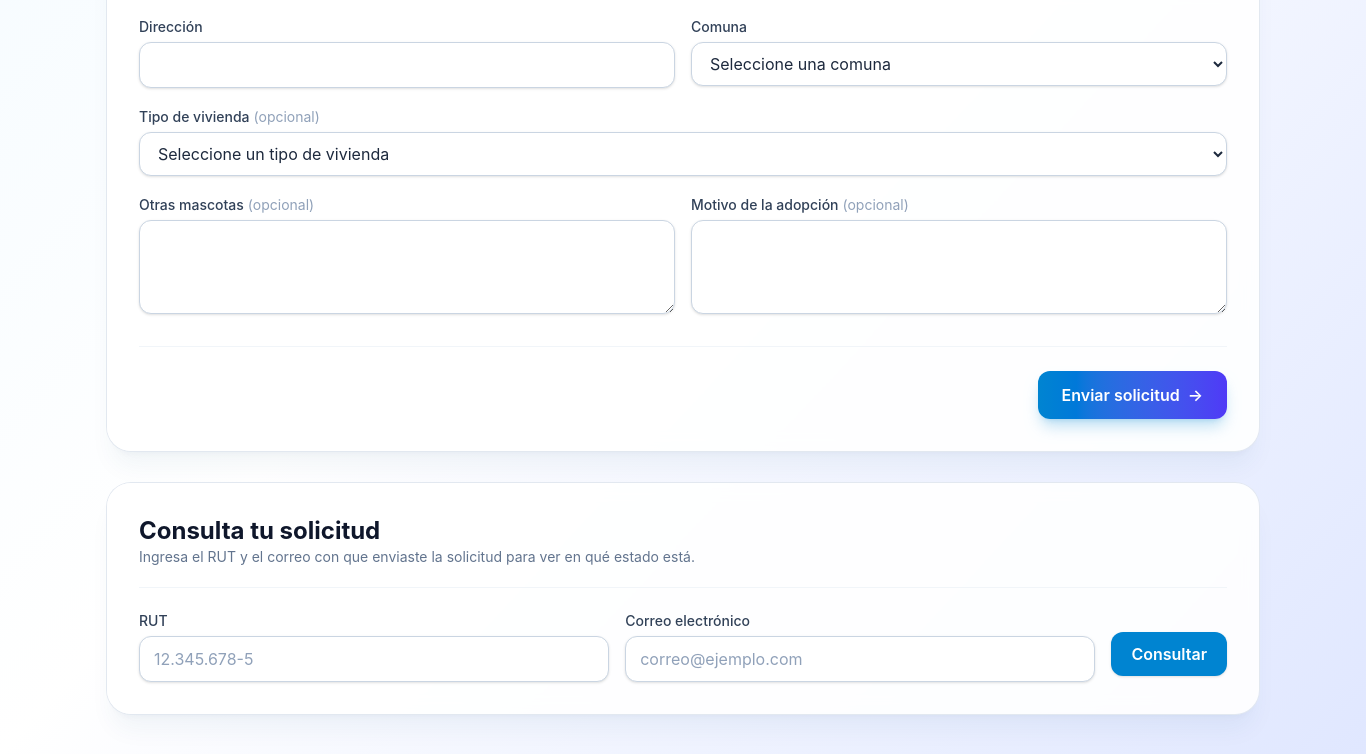
it: Consulta del estado de la solicitud (vista del usuario) › muestra el estado de la solicitud del adoptante
(page scrolled)
Type "123456785" into the field labelled "RUT". click: coordinates (374, 659)
box: [139,636,609,682]
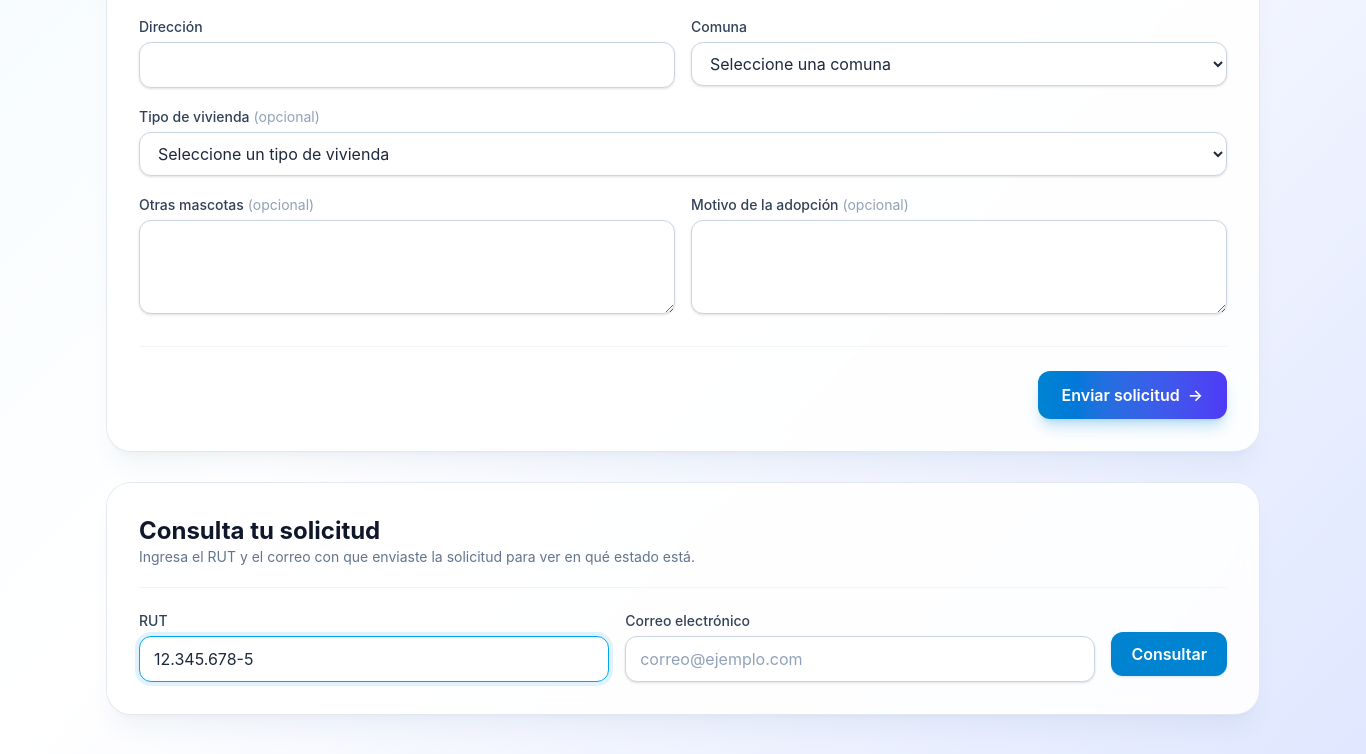
Type "ana@correo.cl" into the field labelled "Correo electrónico". click: coordinates (860, 659)
box: [625,636,1095,682]
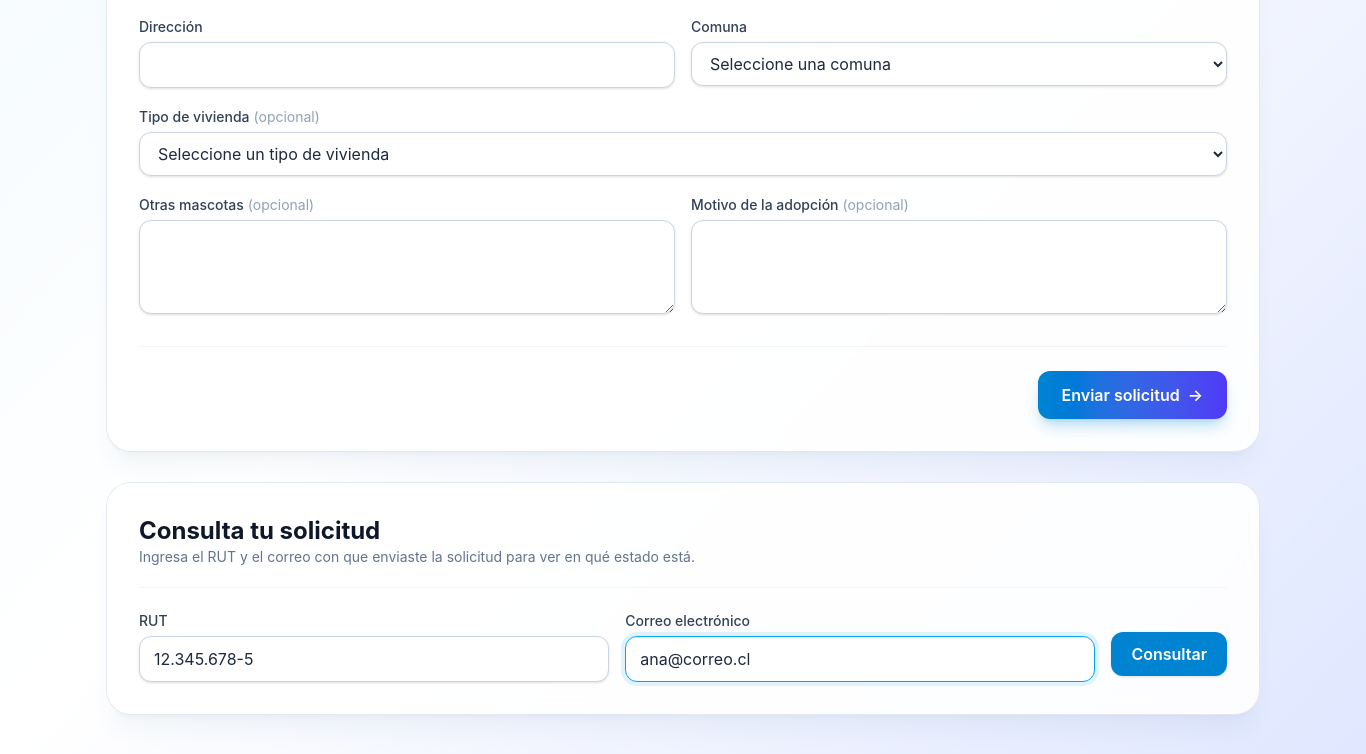
Click the button "Consultar". click: coordinates (1169, 654)
box: [1111,632,1227,676]
(page scrolled)
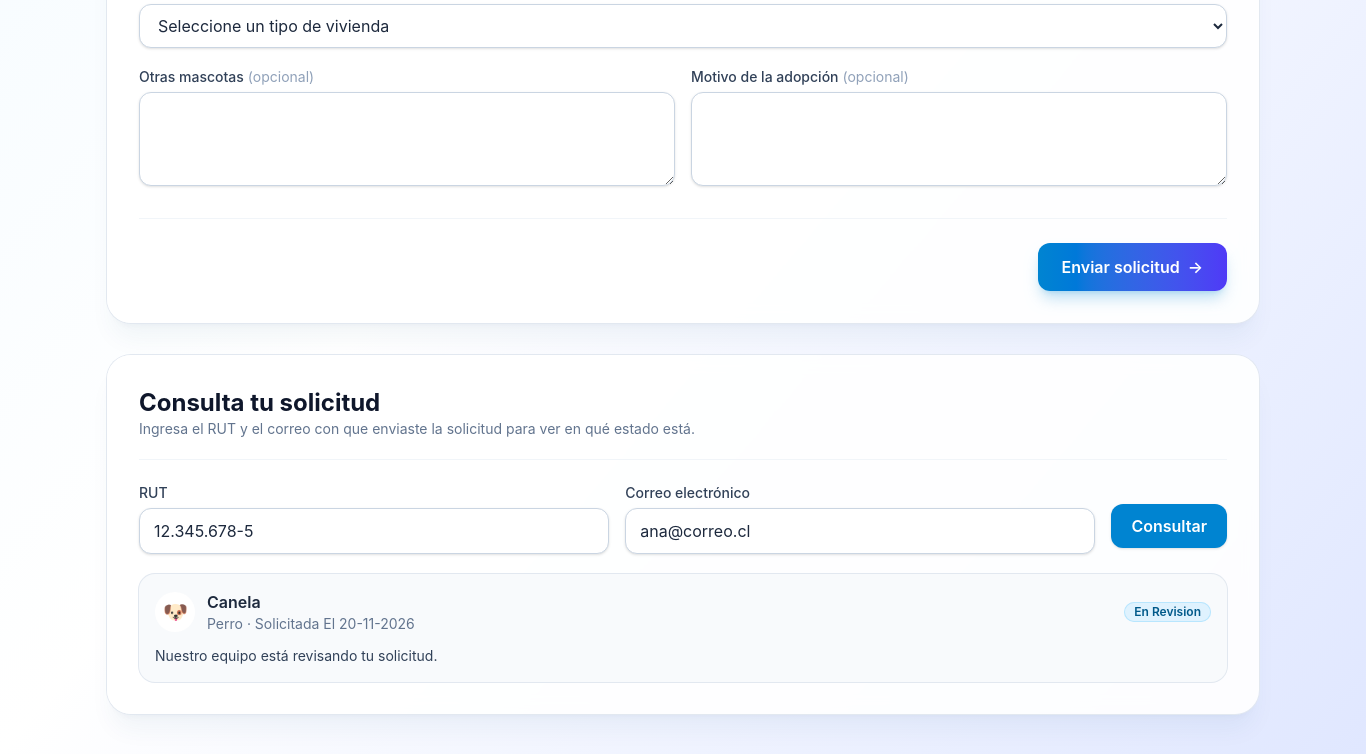
Check: the text "Nuestro equipo está revisando tu solicitud." is shown, box [155,647,438,664]
